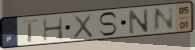H: (41, 16, 65, 42)
N: (151, 5, 176, 34), (127, 8, 150, 36)
S: (97, 11, 119, 37)
T: (21, 18, 40, 44)
X: (72, 13, 95, 40)
